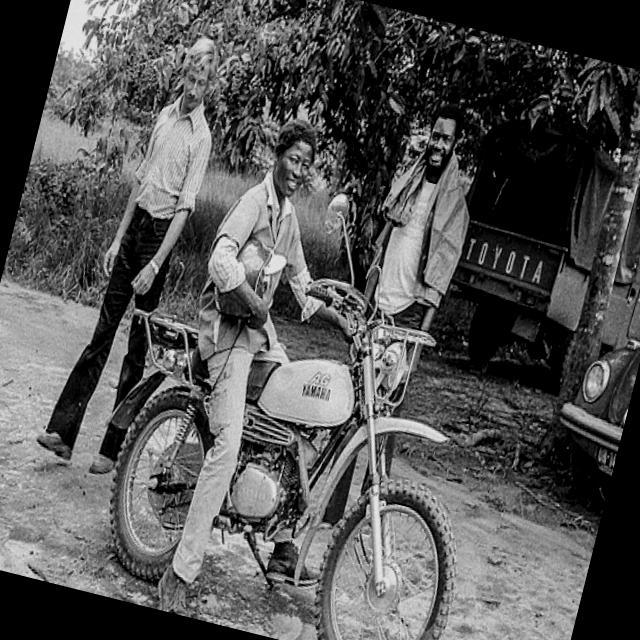Vehicle: (64, 150, 538, 640), (422, 104, 640, 414), (539, 288, 640, 496)
